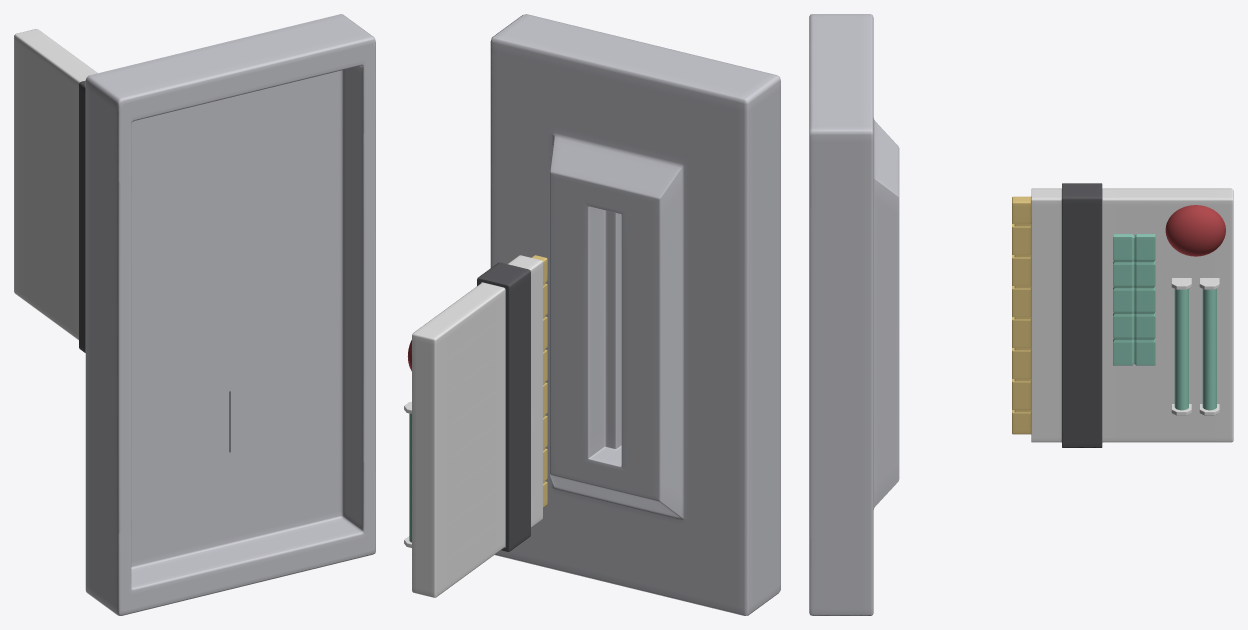
The model's file is InterruptorMasChip.fbx.
3 renders of one model, left to right at view 1: azimuth 30°, elevation 25°; view 2: azimuth 150°, elevation 25°; view 3: azimuth 270°, elevation 25°, orthographic. The views are drawn at different scales.
Parts seen in each view (by area): view 1: Interruptor_high, Chip_high; view 2: Interruptor_high, Chip_high; view 3: Chip_high, Interruptor_high.
Part boxes in pixels (left/top/right/bottom): Interruptor_high: left=85, top=14, right=375, bottom=615; Chip_high: left=14, top=29, right=97, bottom=352; Interruptor_high: left=490, top=14, right=780, bottom=615; Chip_high: left=404, top=255, right=547, bottom=597; Chip_high: left=1012, top=183, right=1233, bottom=447; Interruptor_high: left=809, top=14, right=899, bottom=615.
Size of the model in its own units: 0.7739 by 1.48 by 1.17.
